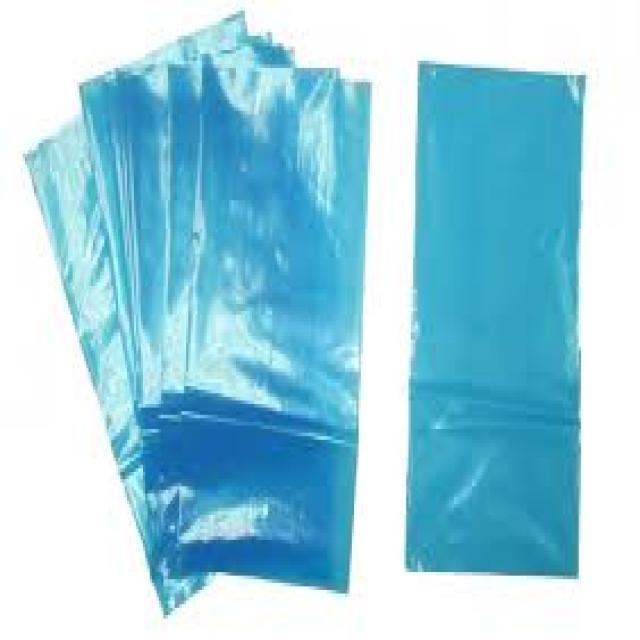plastic: (170, 50, 370, 586), (77, 7, 270, 558), (111, 25, 293, 565), (18, 111, 209, 611), (404, 57, 583, 576)
